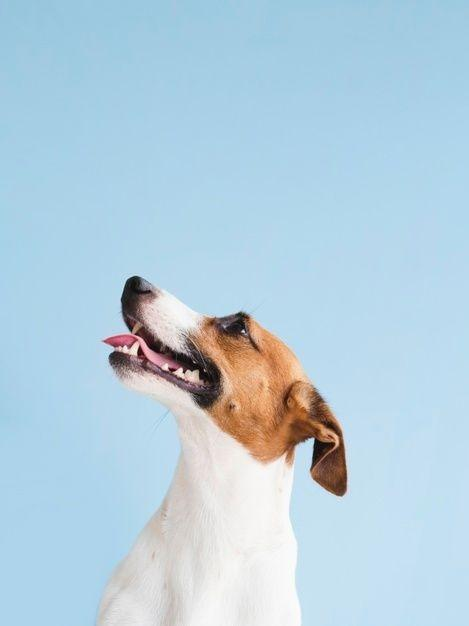adult_dog: (94, 273, 349, 626)
